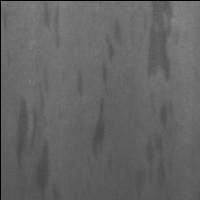inclusion: (138, 2, 183, 197), (89, 18, 126, 163), (14, 76, 52, 200), (41, 2, 63, 51), (73, 70, 87, 101)
